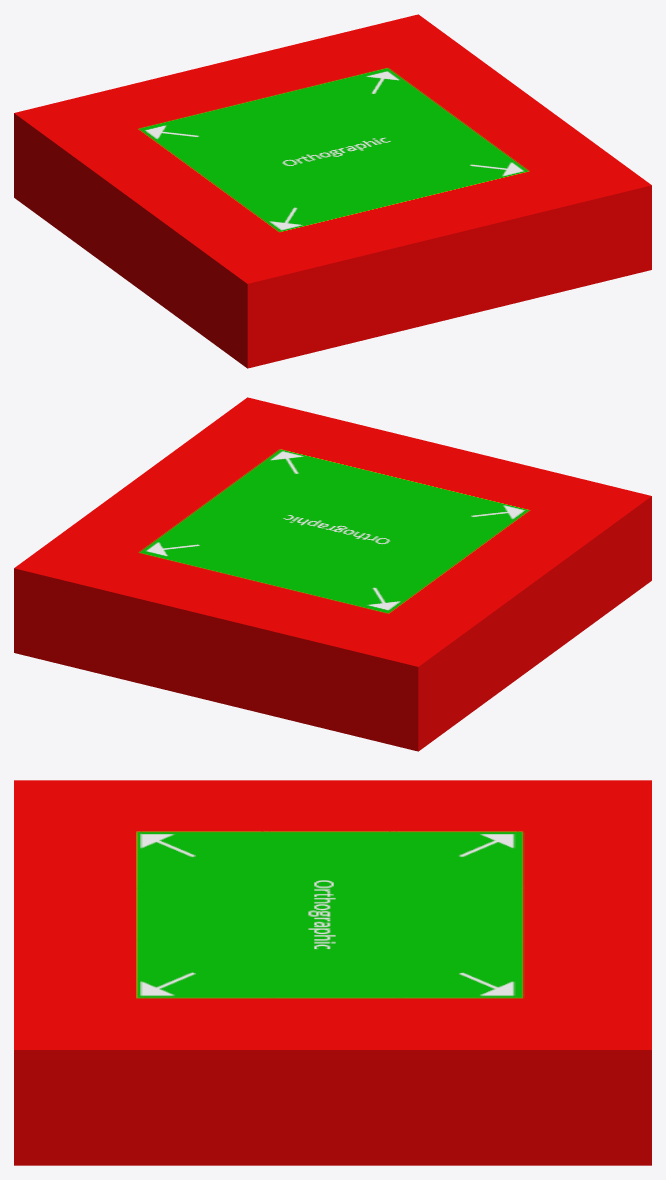
Rendered from CameraTest.gltf.
3 renders of one model, top to bottom at view 1: azimuth 30°, elevation 25°; view 2: azimuth 150°, elevation 25°; view 3: azimuth 270°, elevation 25°, orthographic. The views are drawn at different scales.
Parts seen in each view (by area): view 1: cube1; view 2: cube1; view 3: cube1.
Part boxes in pixels (left/top/right/bottom): cube1: left=14, top=14, right=651, bottom=368; cube1: left=14, top=397, right=651, bottom=751; cube1: left=14, top=780, right=651, bottom=1165.
Bounding box in the file's own units: 5 × 1 × 5.
Materials: 1 (1 with a texture image).
